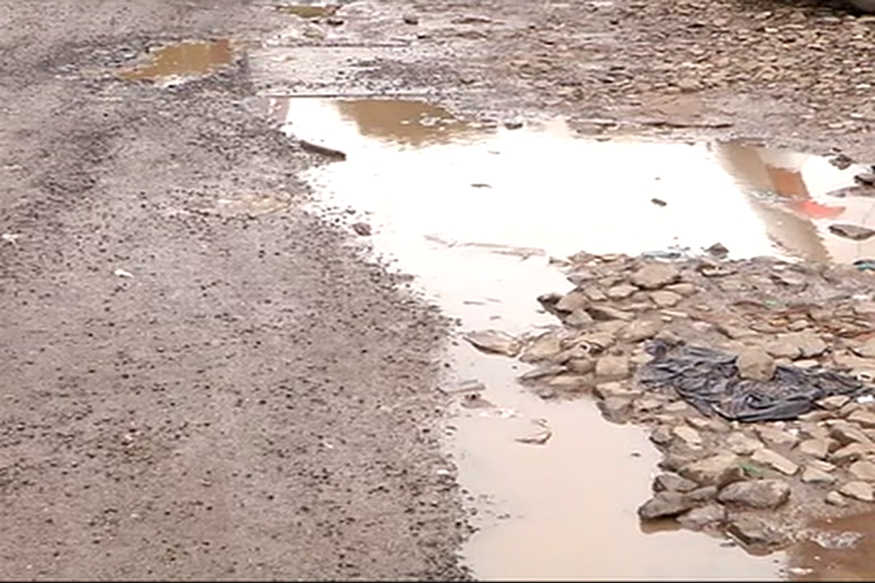pothole: (230, 78, 867, 253), (407, 369, 735, 581), (107, 20, 253, 108)
